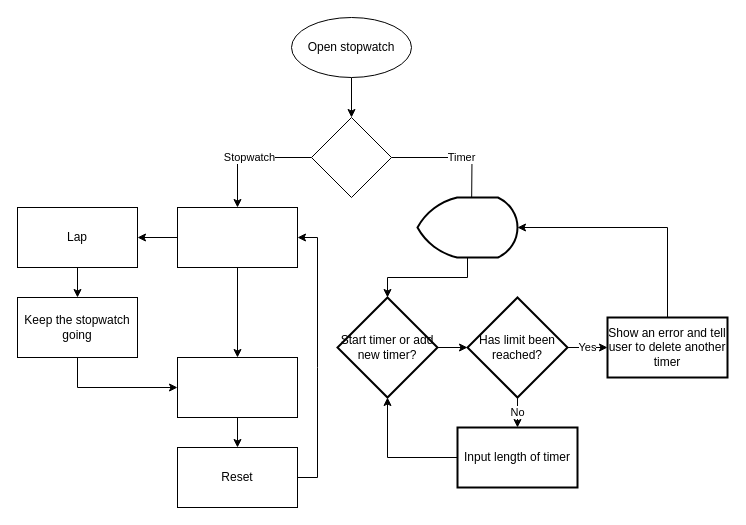
The diagram is 746 pixels wide and 525 high, and some of its shapes have lost their labels. Each missing label, with the centre of its shape:
Show all set timers: [467,227]
Start stopwatch: [237,237]
Stop: [237,387]
Stopwatch or timer?: [351,157]
